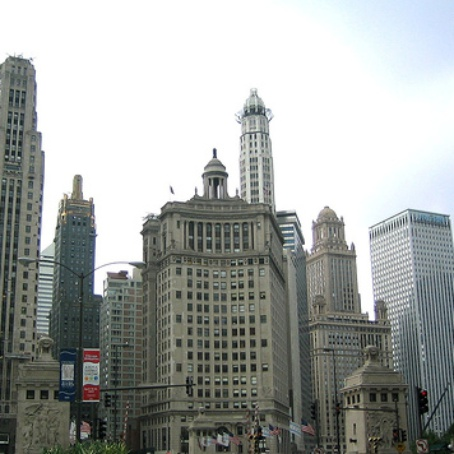building: (158, 195, 287, 447), (303, 203, 388, 449), (380, 192, 454, 437), (2, 54, 59, 362), (103, 274, 162, 452), (52, 179, 105, 359), (234, 90, 283, 208)
sky: (1, 1, 453, 204)
